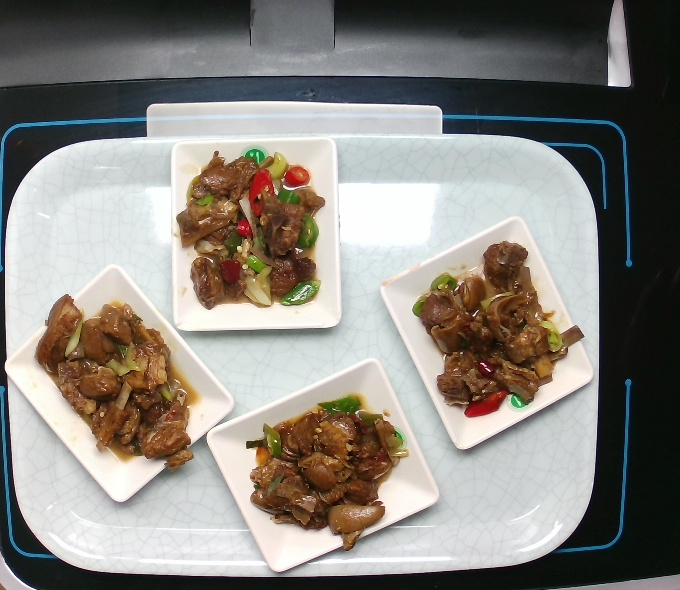wcq-YangRou: (30, 282, 207, 493), (416, 226, 596, 423), (159, 141, 344, 329), (236, 380, 421, 555)
